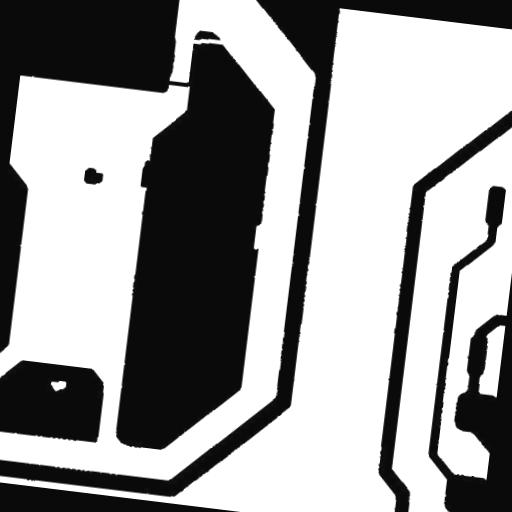copper: (75, 158, 112, 194)
mousebite: (245, 215, 272, 258)
open: (181, 28, 242, 56)
pin-hole: (41, 372, 74, 400)
short: (156, 71, 202, 96)
spur: (132, 151, 160, 196)
